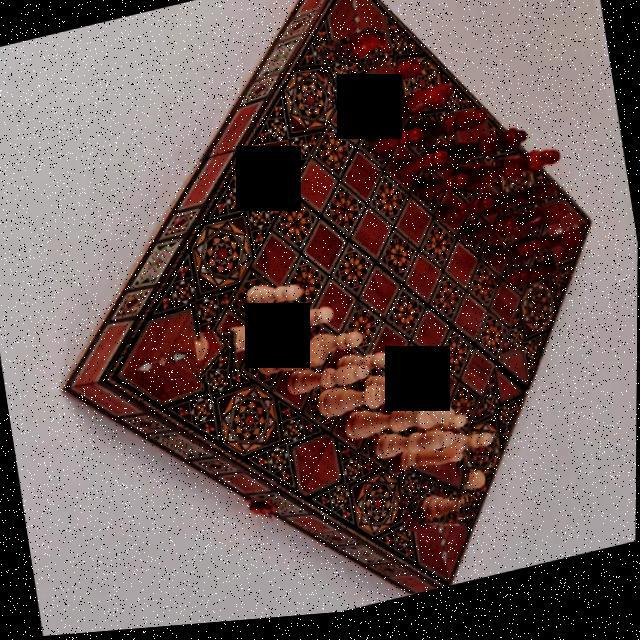chess-table-corners: (318, 32, 397, 115), (396, 464, 474, 544), (500, 228, 556, 296), (190, 328, 242, 390)
